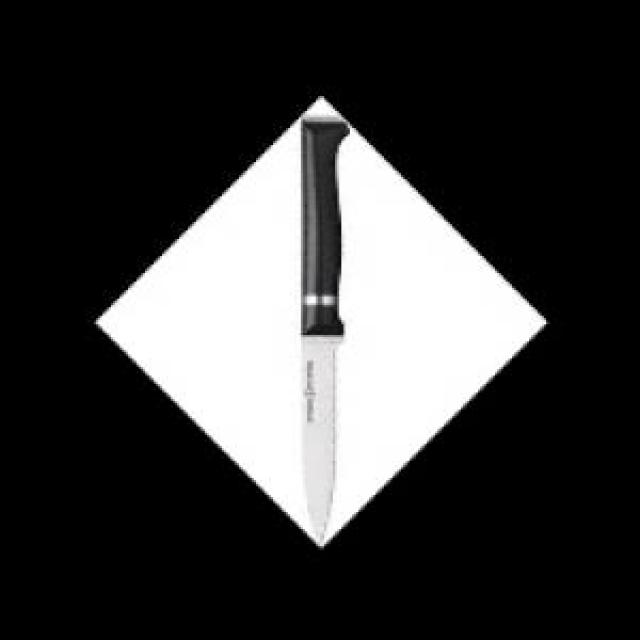knife: (299, 122, 354, 556)
